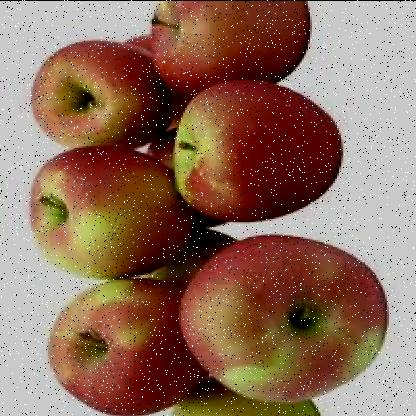apple: (189, 249, 381, 401), (168, 81, 336, 233), (33, 155, 193, 278), (54, 284, 196, 413), (25, 41, 162, 149), (150, 2, 302, 87)
